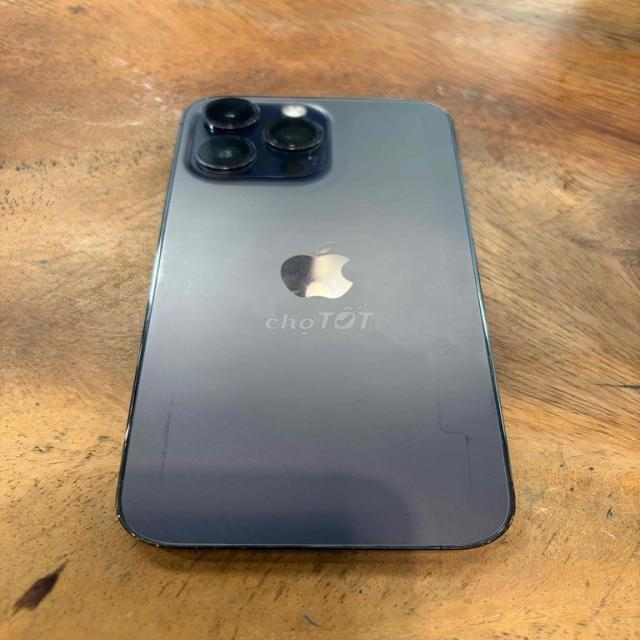scratch: (417, 318, 500, 516), (149, 358, 177, 510)
